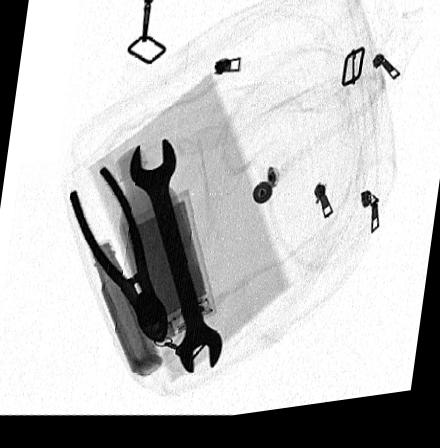Pliers: (68, 168, 169, 348)
Powerbank: (121, 192, 218, 347)
Wrench: (129, 143, 224, 379)
